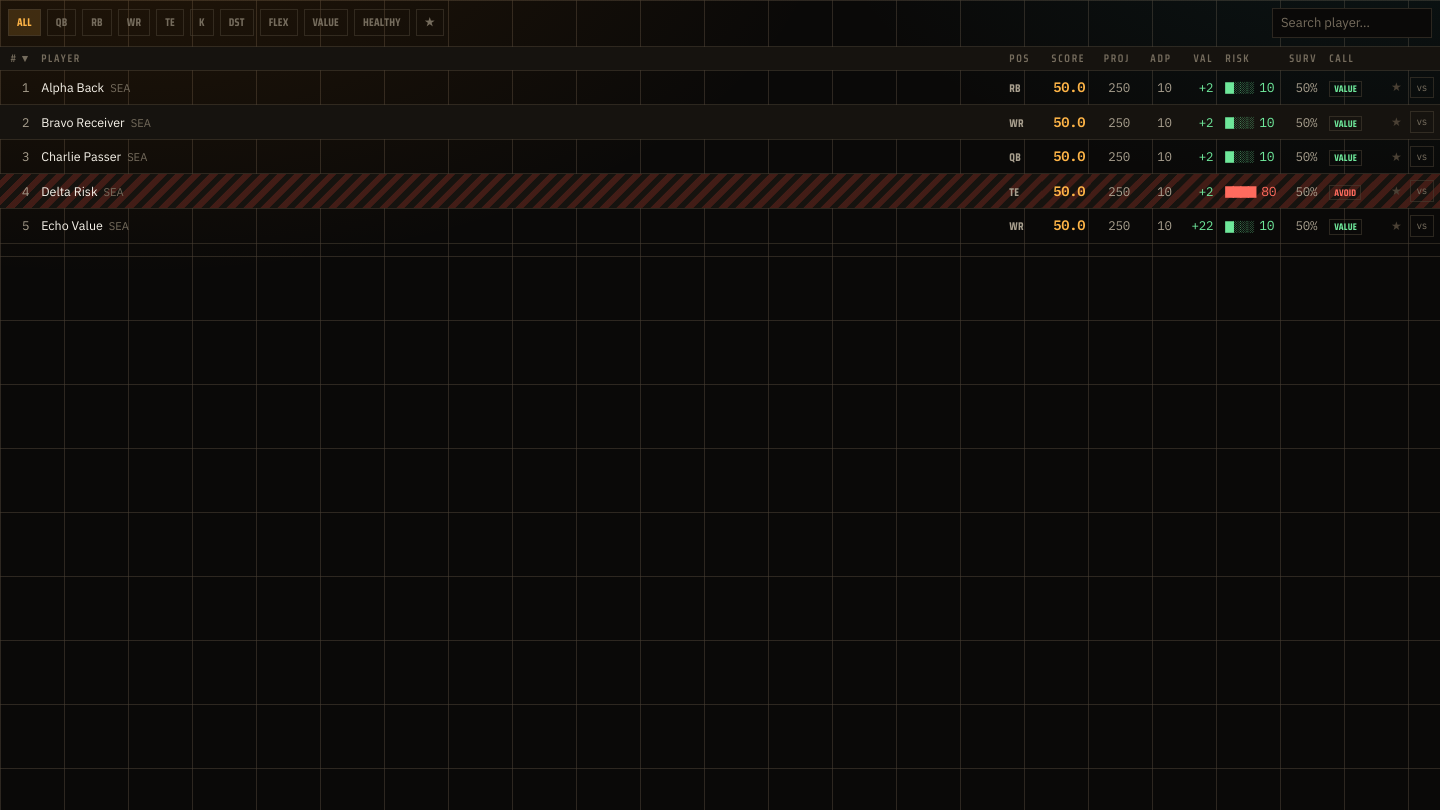
Test case: BestAvailable › searches by name and by team
Type "bravo" into the search field named "search players" at x=1352, y=23, box [1272,8,1432,38]
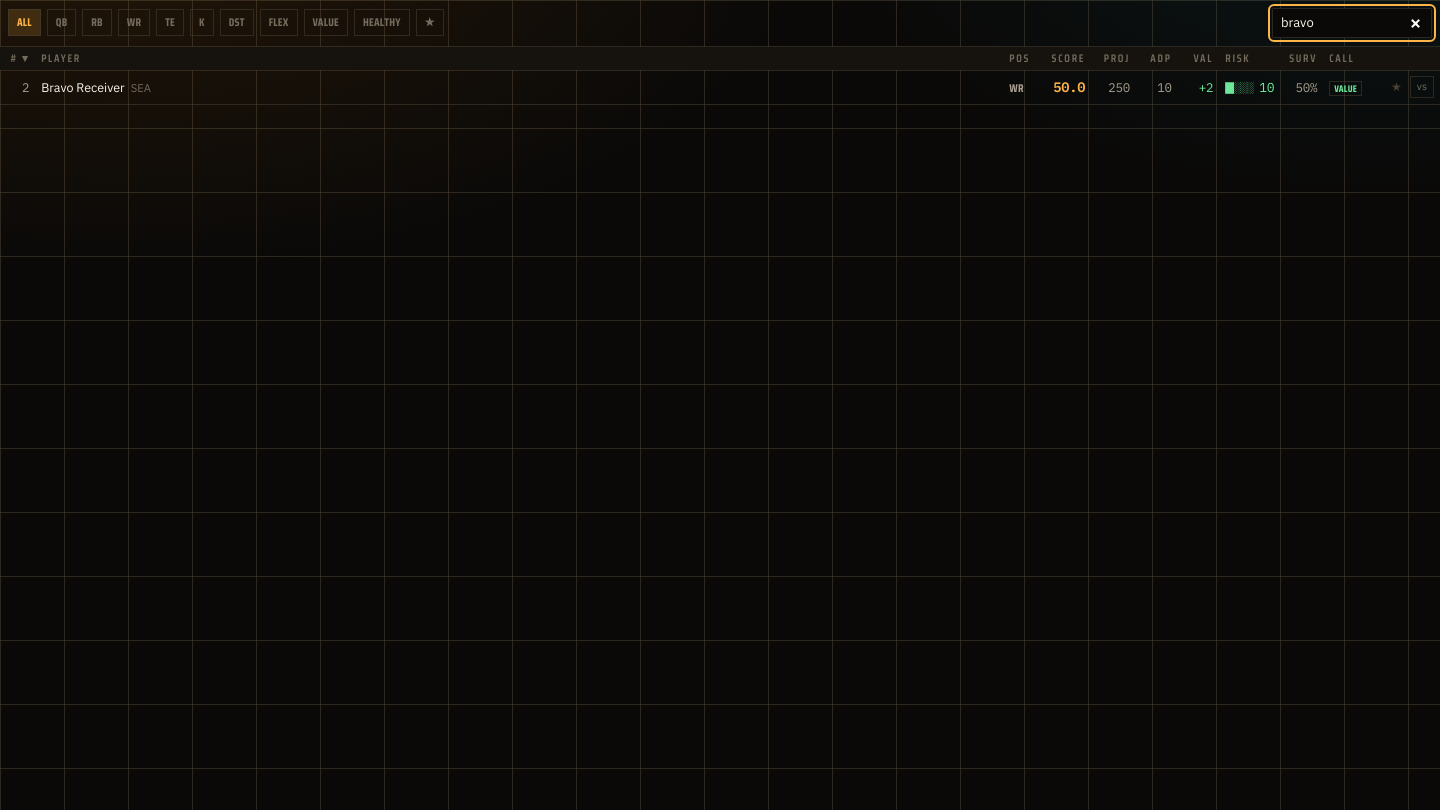
Expected: the text "Bravo Receiver" is shown, [41,79,125,95]
Now the text "Alpha Back" is gone
